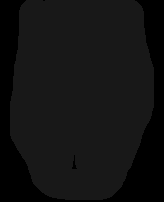fp: (1, 1, 154, 197)
